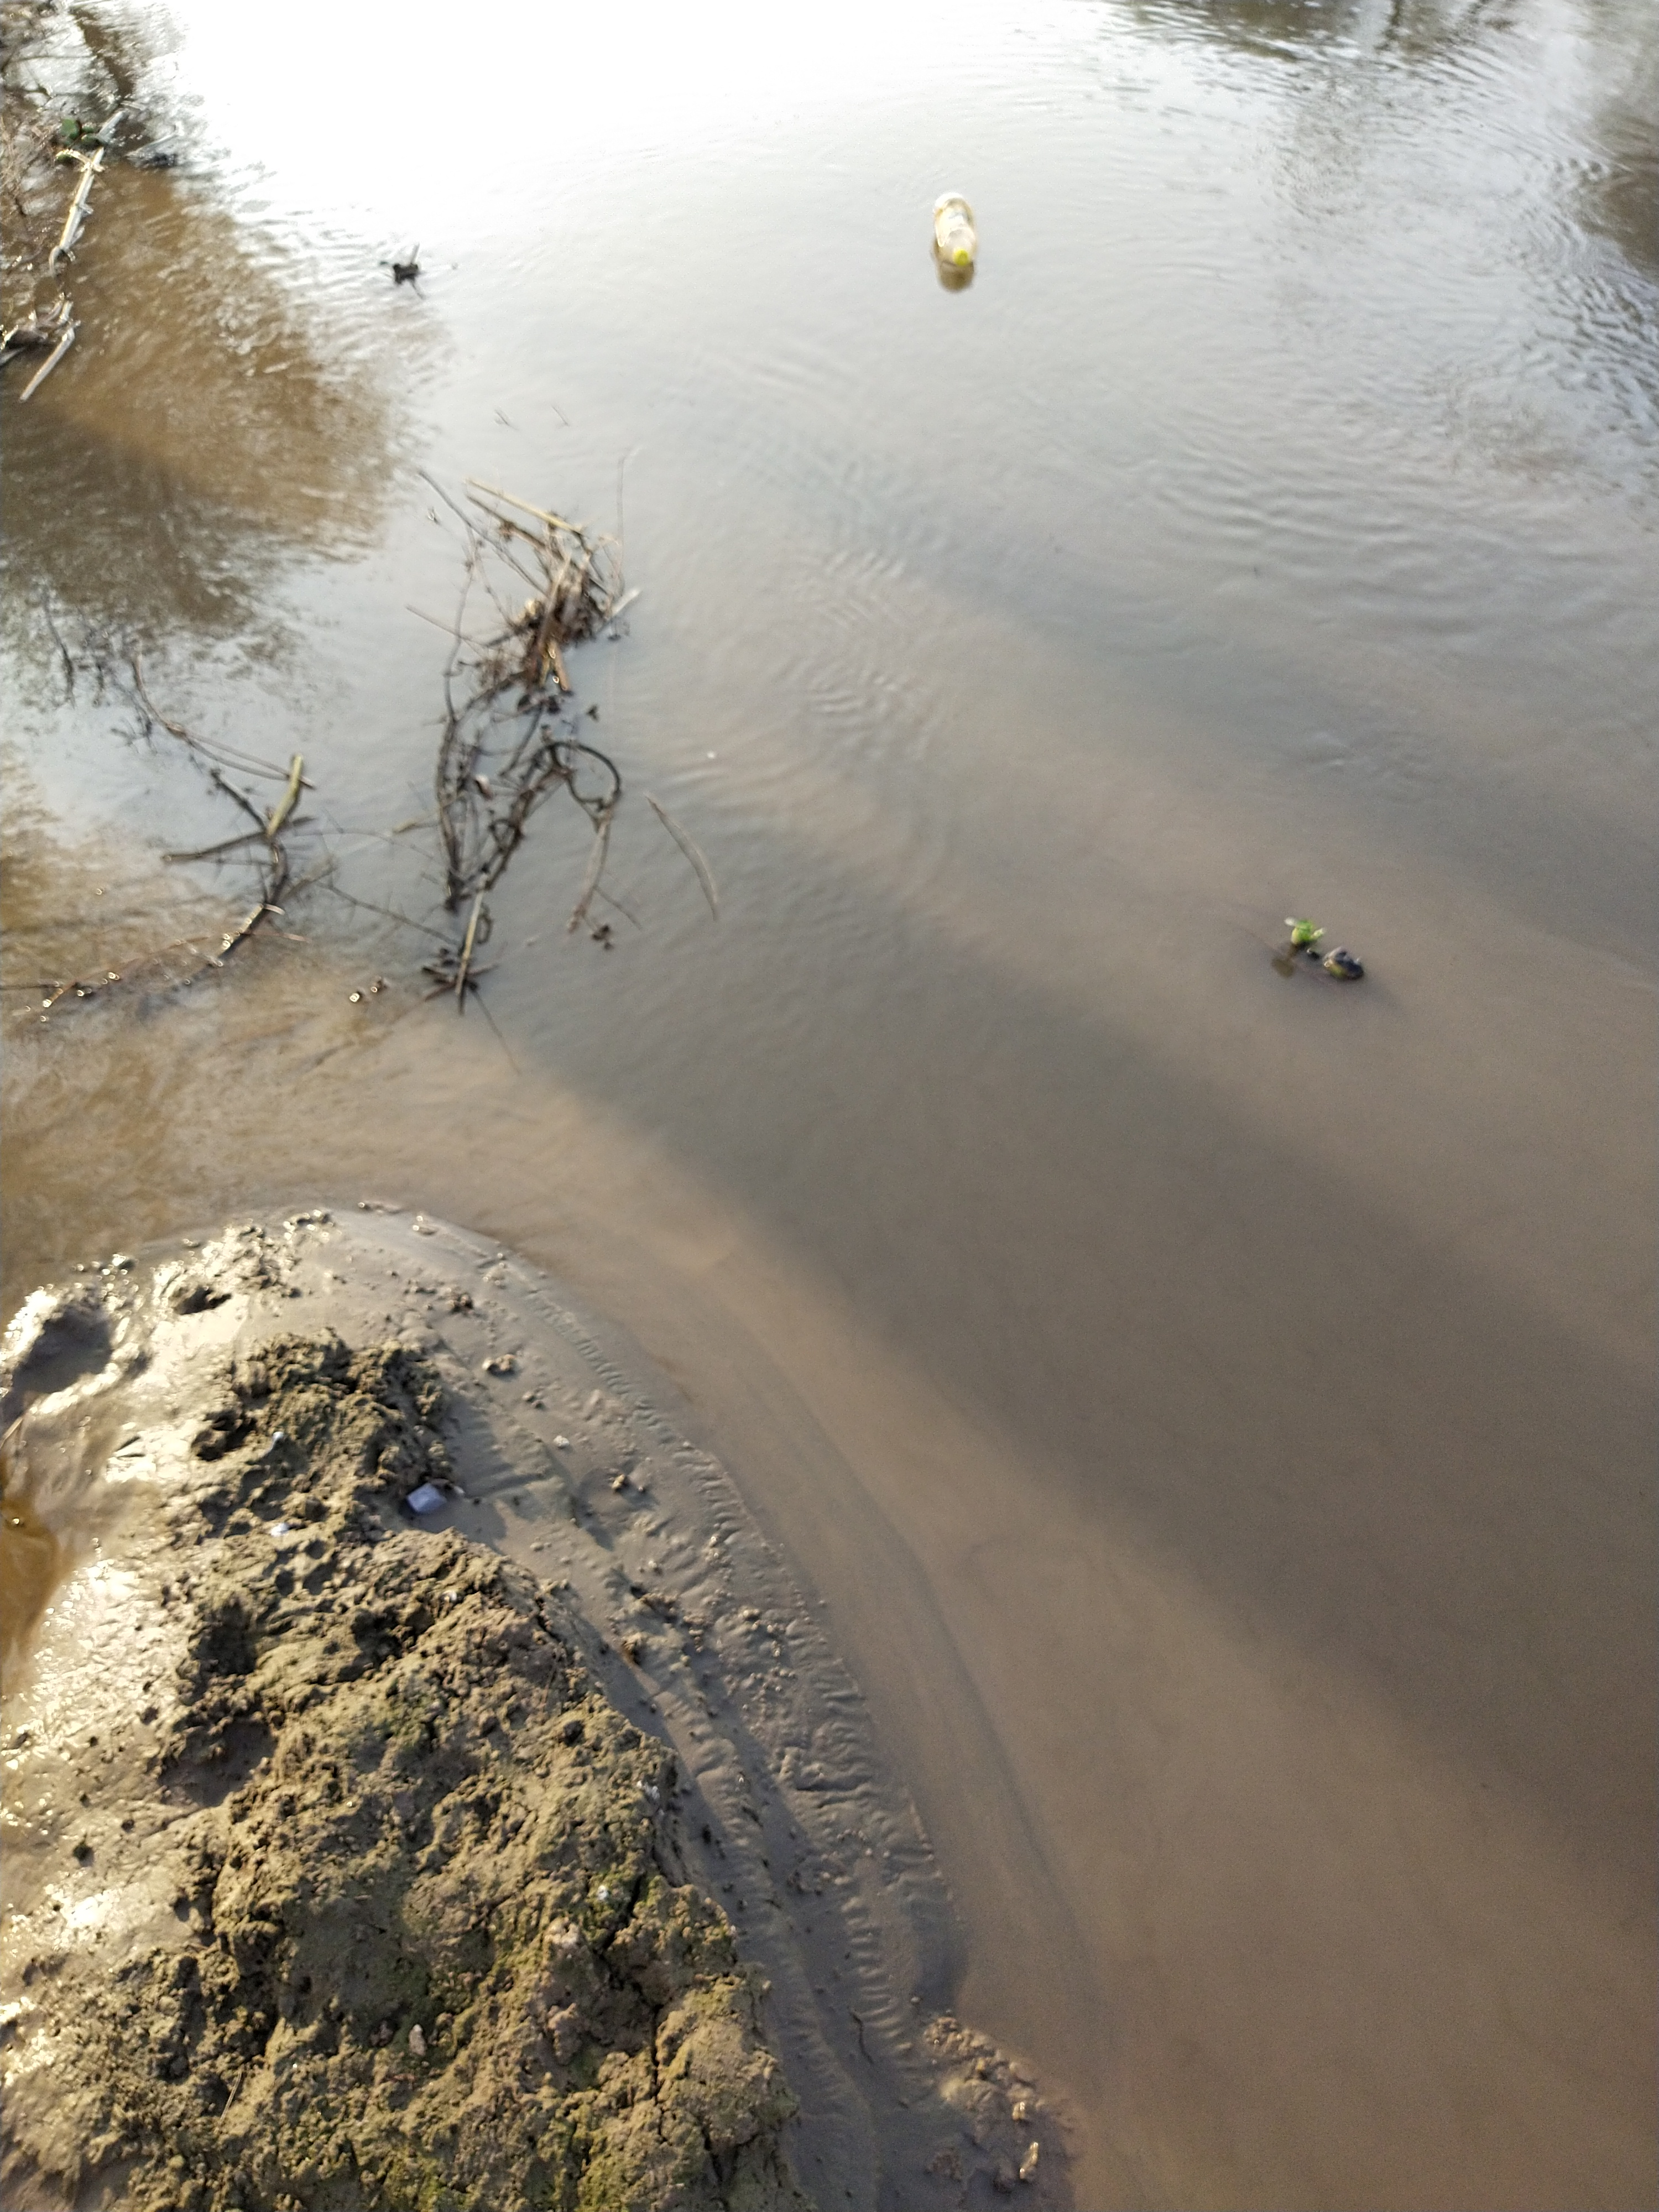Plastic Bottle: (932, 192, 976, 266)
